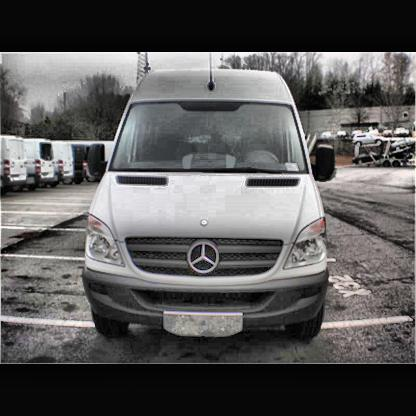Mercedes-Benz Sprinter Van 2012: (83, 54, 331, 346)
